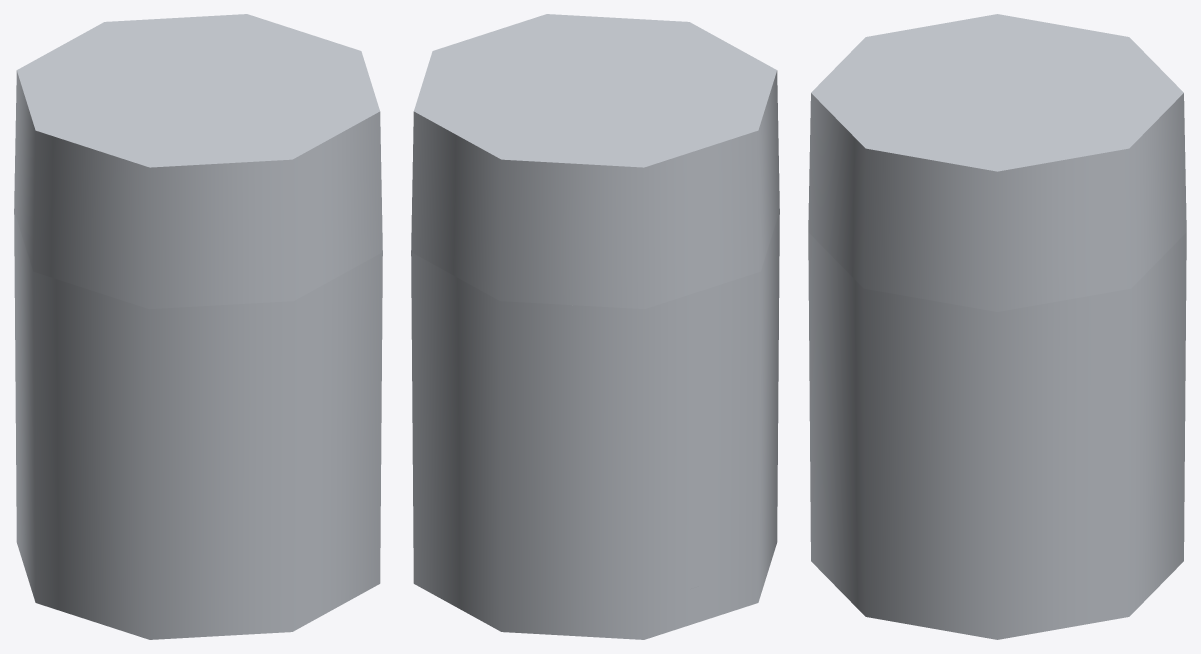
The picture shows the model from 3 angles, left to right: view 1: azimuth 30°, elevation 25°; view 2: azimuth 150°, elevation 25°; view 3: azimuth 270°, elevation 25°; orthographic projection.
Parts seen in each view (by area): view 1: cleaning_cotton_tips_container, cleaning_cotton_tips_lid.001; view 2: cleaning_cotton_tips_container, cleaning_cotton_tips_lid.001; view 3: cleaning_cotton_tips_container, cleaning_cotton_tips_lid.001.
Part boxes in pixels (x1,y1,x2,y2): cleaning_cotton_tips_container: (14, 211, 382, 639); cleaning_cotton_tips_lid.001: (14, 14, 382, 309); cleaning_cotton_tips_container: (411, 211, 779, 639); cleaning_cotton_tips_lid.001: (411, 14, 779, 309); cleaning_cotton_tips_container: (808, 232, 1186, 639); cleaning_cotton_tips_lid.001: (808, 14, 1186, 311).
Bounding box in the file's own units: 10.62 × 14.51 × 10.62.
2 materials, 2 textured.
